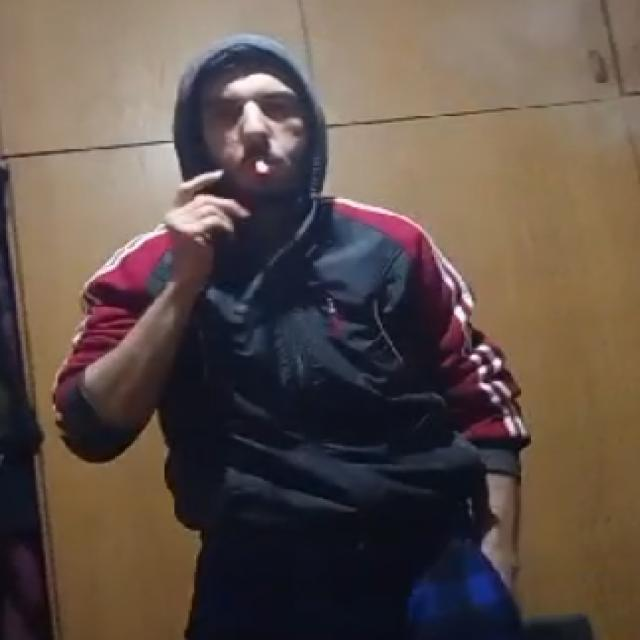face_no_mask: (204, 68, 318, 194)
